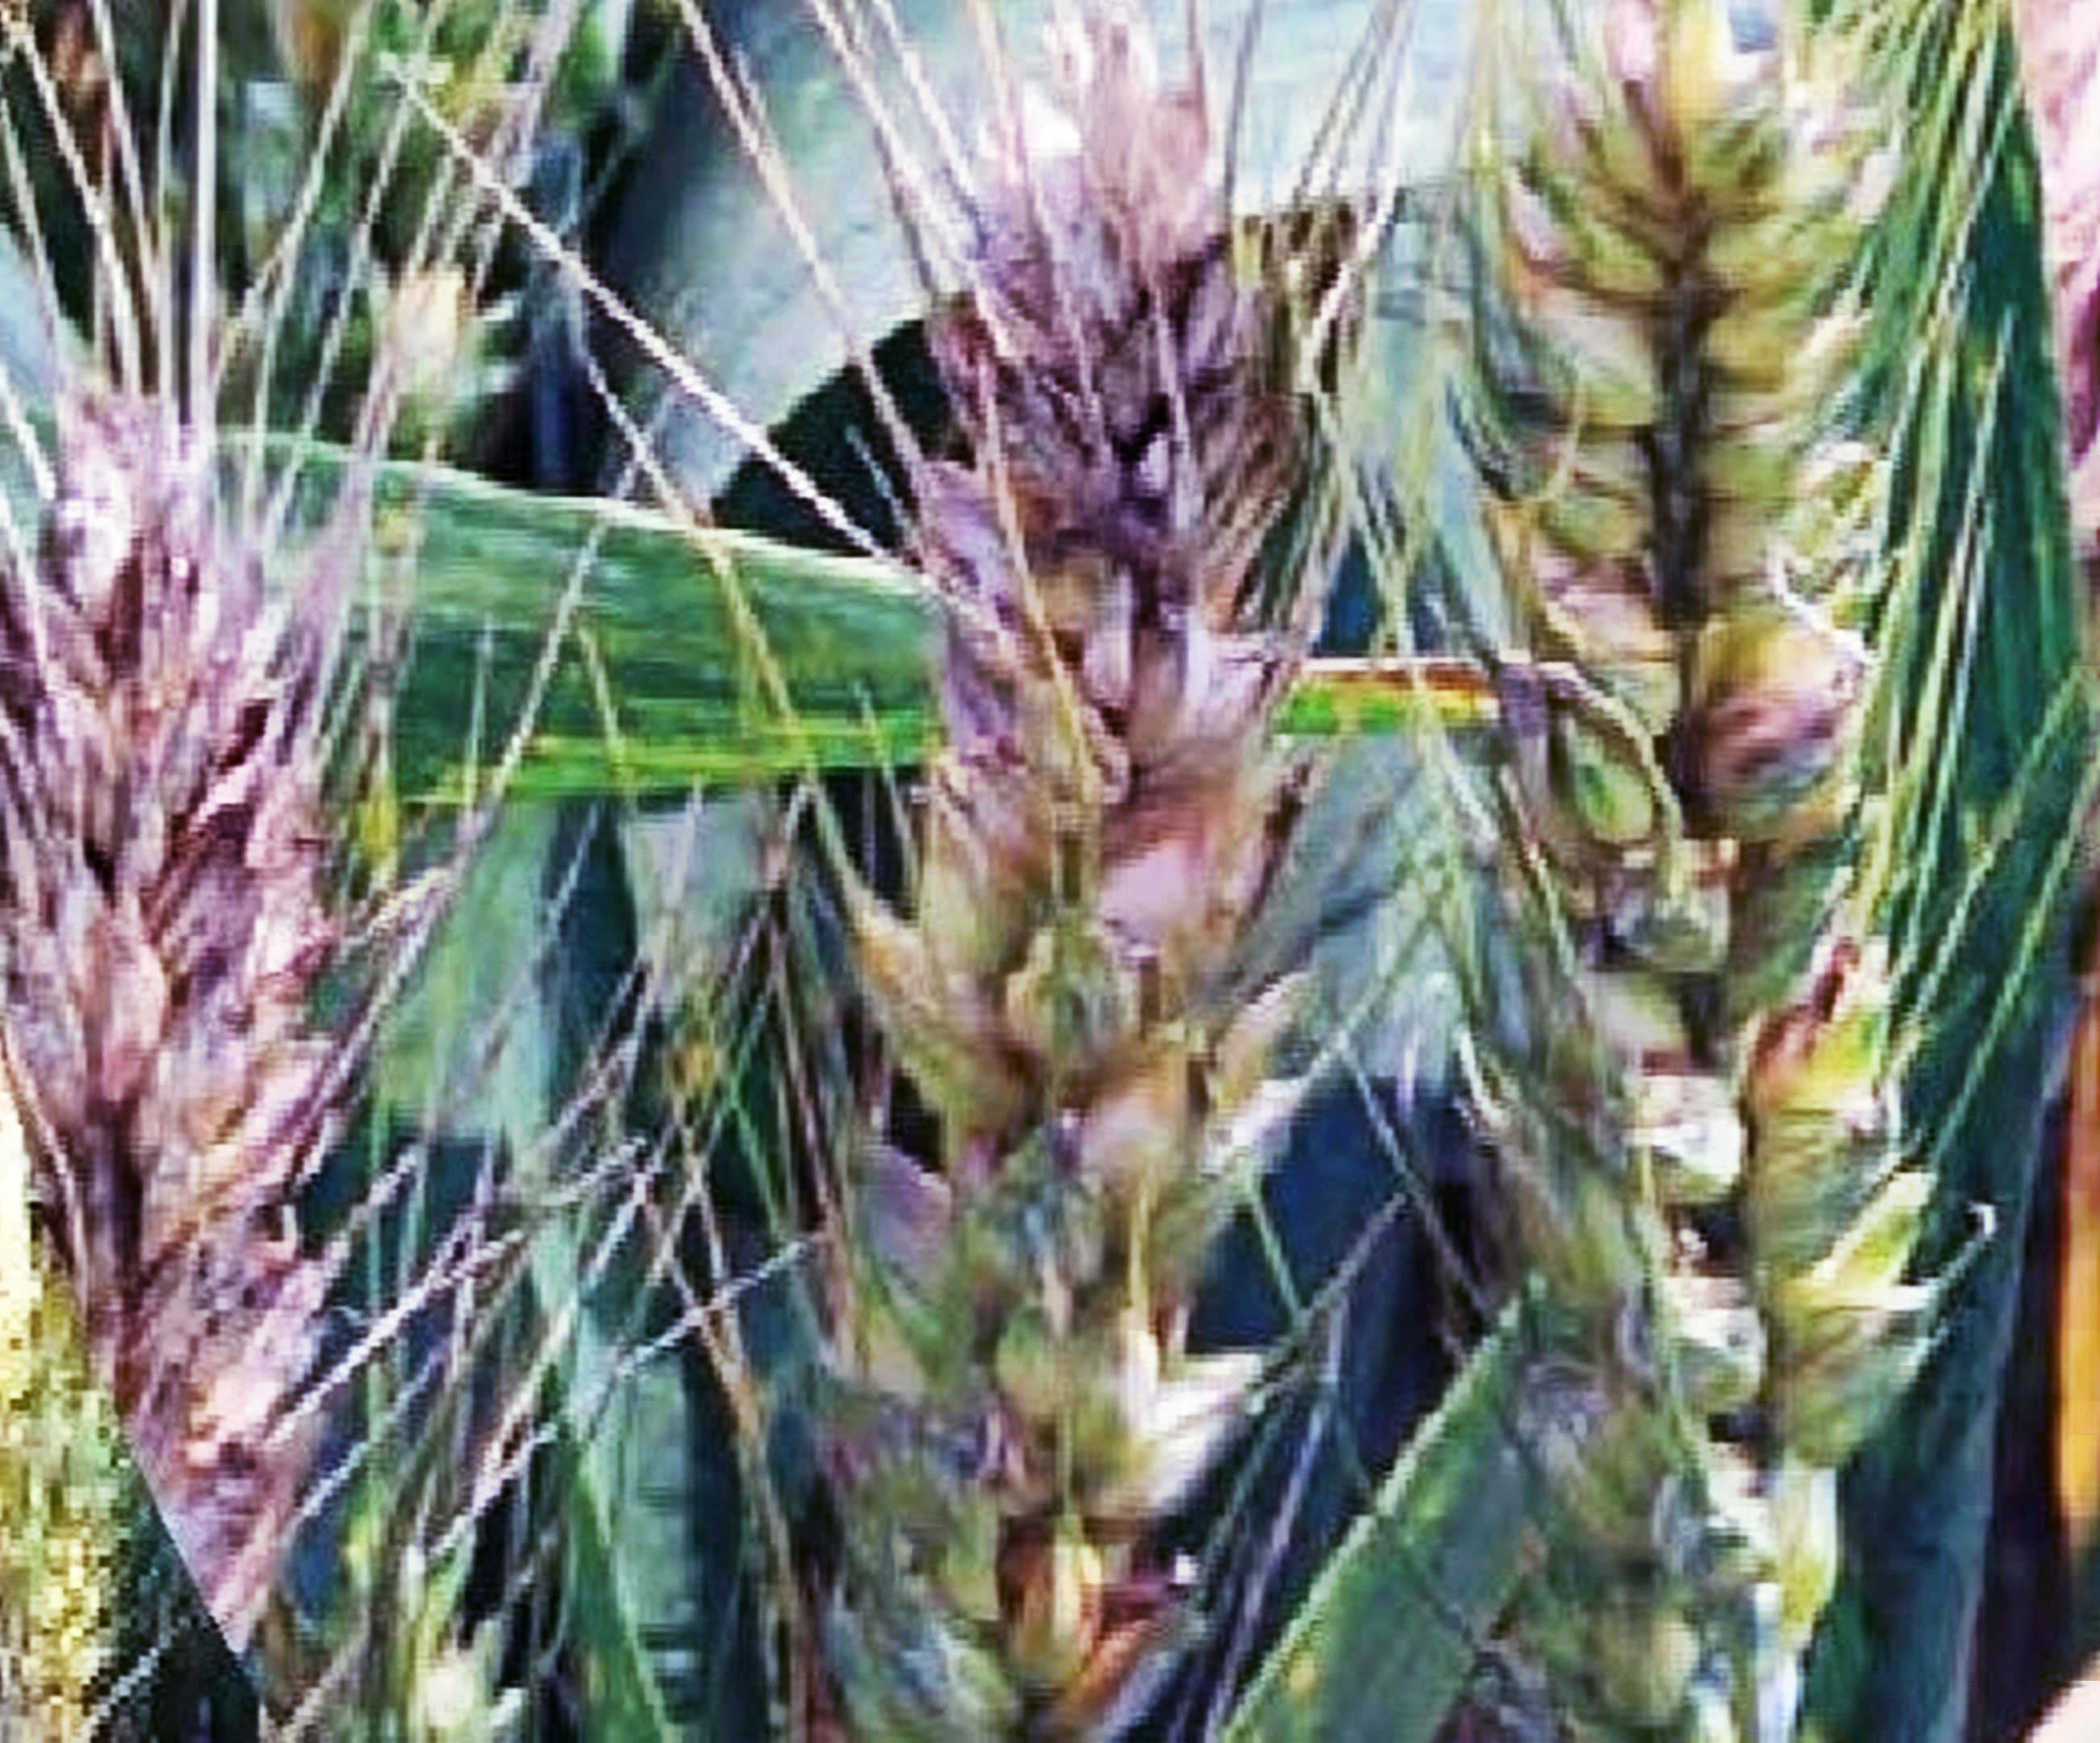Wheat scab: (839, 61, 1374, 1640), (1476, 31, 1971, 1598)
